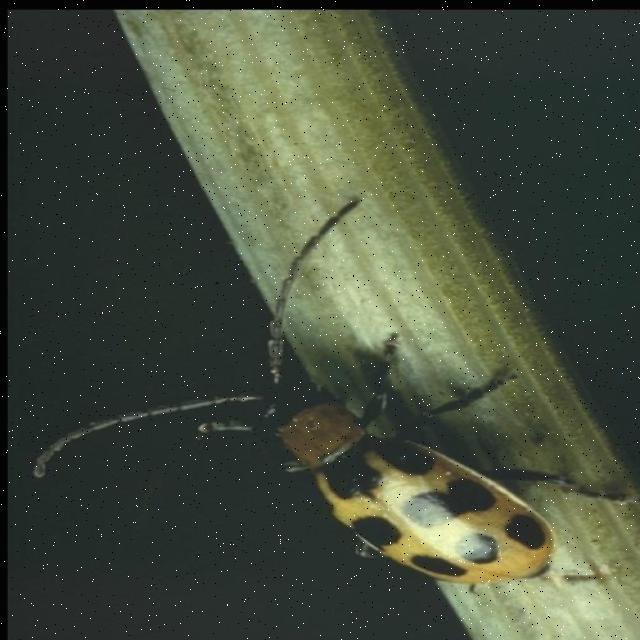gusano_verde: (31, 196, 626, 594)
